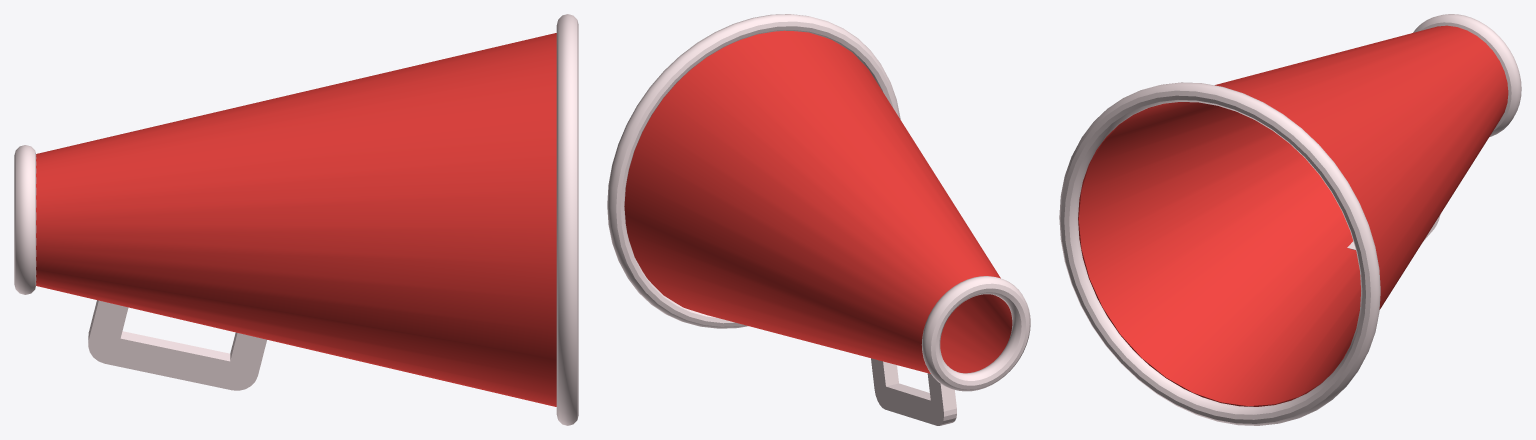
File: megaphone.glb
3 renders of one model, left to right at view 1: azimuth 30°, elevation 25°; view 2: azimuth 150°, elevation 25°; view 3: azimuth 270°, elevation 25°, orthographic. The views are drawn at different scales.
Visible parts, largest first — view 1: Torus.009; view 2: Torus.009; view 3: Torus.009.
Boxes of the visible parts, left/top/right/bottom form: Torus.009: left=14, top=14, right=578, bottom=425; Torus.009: left=607, top=14, right=1030, bottom=425; Torus.009: left=1059, top=14, right=1521, bottom=425.
Bounding box in the file's own units: 2.34 × 1.56 × 1.95.
1 material, 1 textured.
